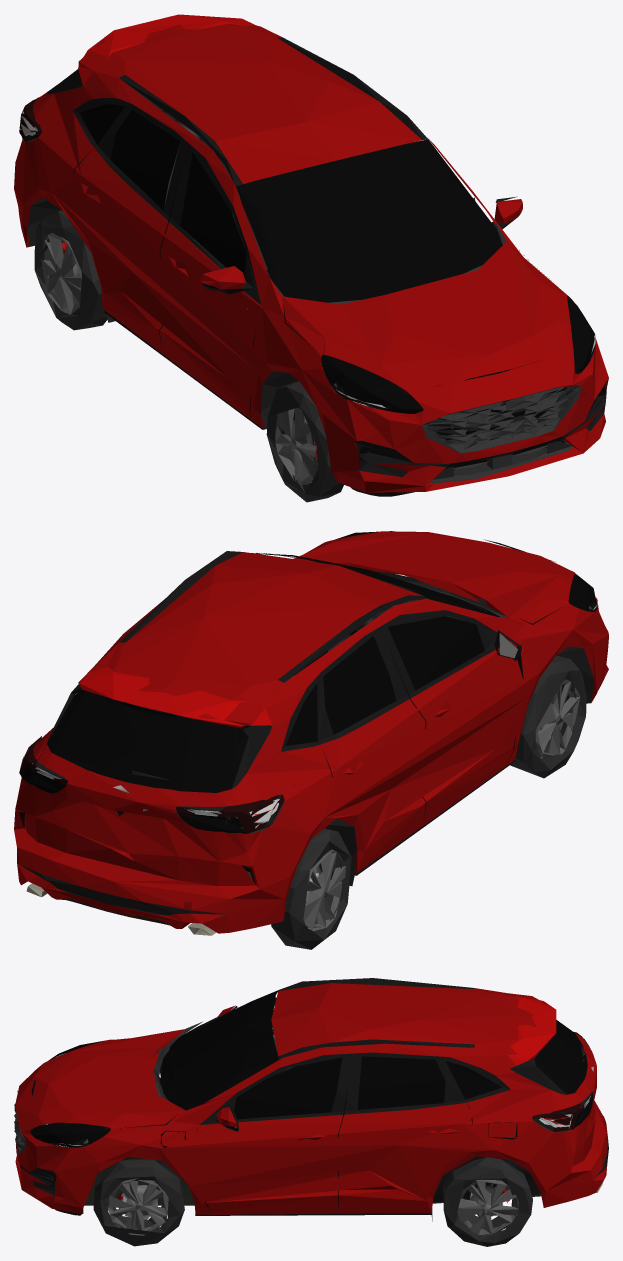
Rendered from sedan_kuga.glb.
3 renders of one model, top to bottom at view 1: azimuth 30°, elevation 25°; view 2: azimuth 150°, elevation 25°; view 3: azimuth 270°, elevation 25°, orthographic. The views are drawn at different scales.
Visible parts, largest first — view 1: 24kuga_Pack_Design_Sport_CarP_2_0, cavity_glass_surr_0; view 2: 24kuga_Pack_Design_Sport_CarP_2_0, cavity_glass_surr_0; view 3: 24kuga_Pack_Design_Sport_CarP_2_0, cavity_glass_surr_0.
Boxes of the visible parts, bbox=[...] form: 24kuga_Pack_Design_Sport_CarP_2_0: bbox=[14, 14, 608, 502]; cavity_glass_surr_0: bbox=[19, 85, 595, 403]; 24kuga_Pack_Design_Sport_CarP_2_0: bbox=[14, 531, 608, 949]; cavity_glass_surr_0: bbox=[19, 553, 597, 884]; 24kuga_Pack_Design_Sport_CarP_2_0: bbox=[14, 978, 608, 1246]; cavity_glass_surr_0: bbox=[32, 990, 593, 1145].
Bounding box in the file's own units: 0.2138 × 0.1652 × 0.461.
